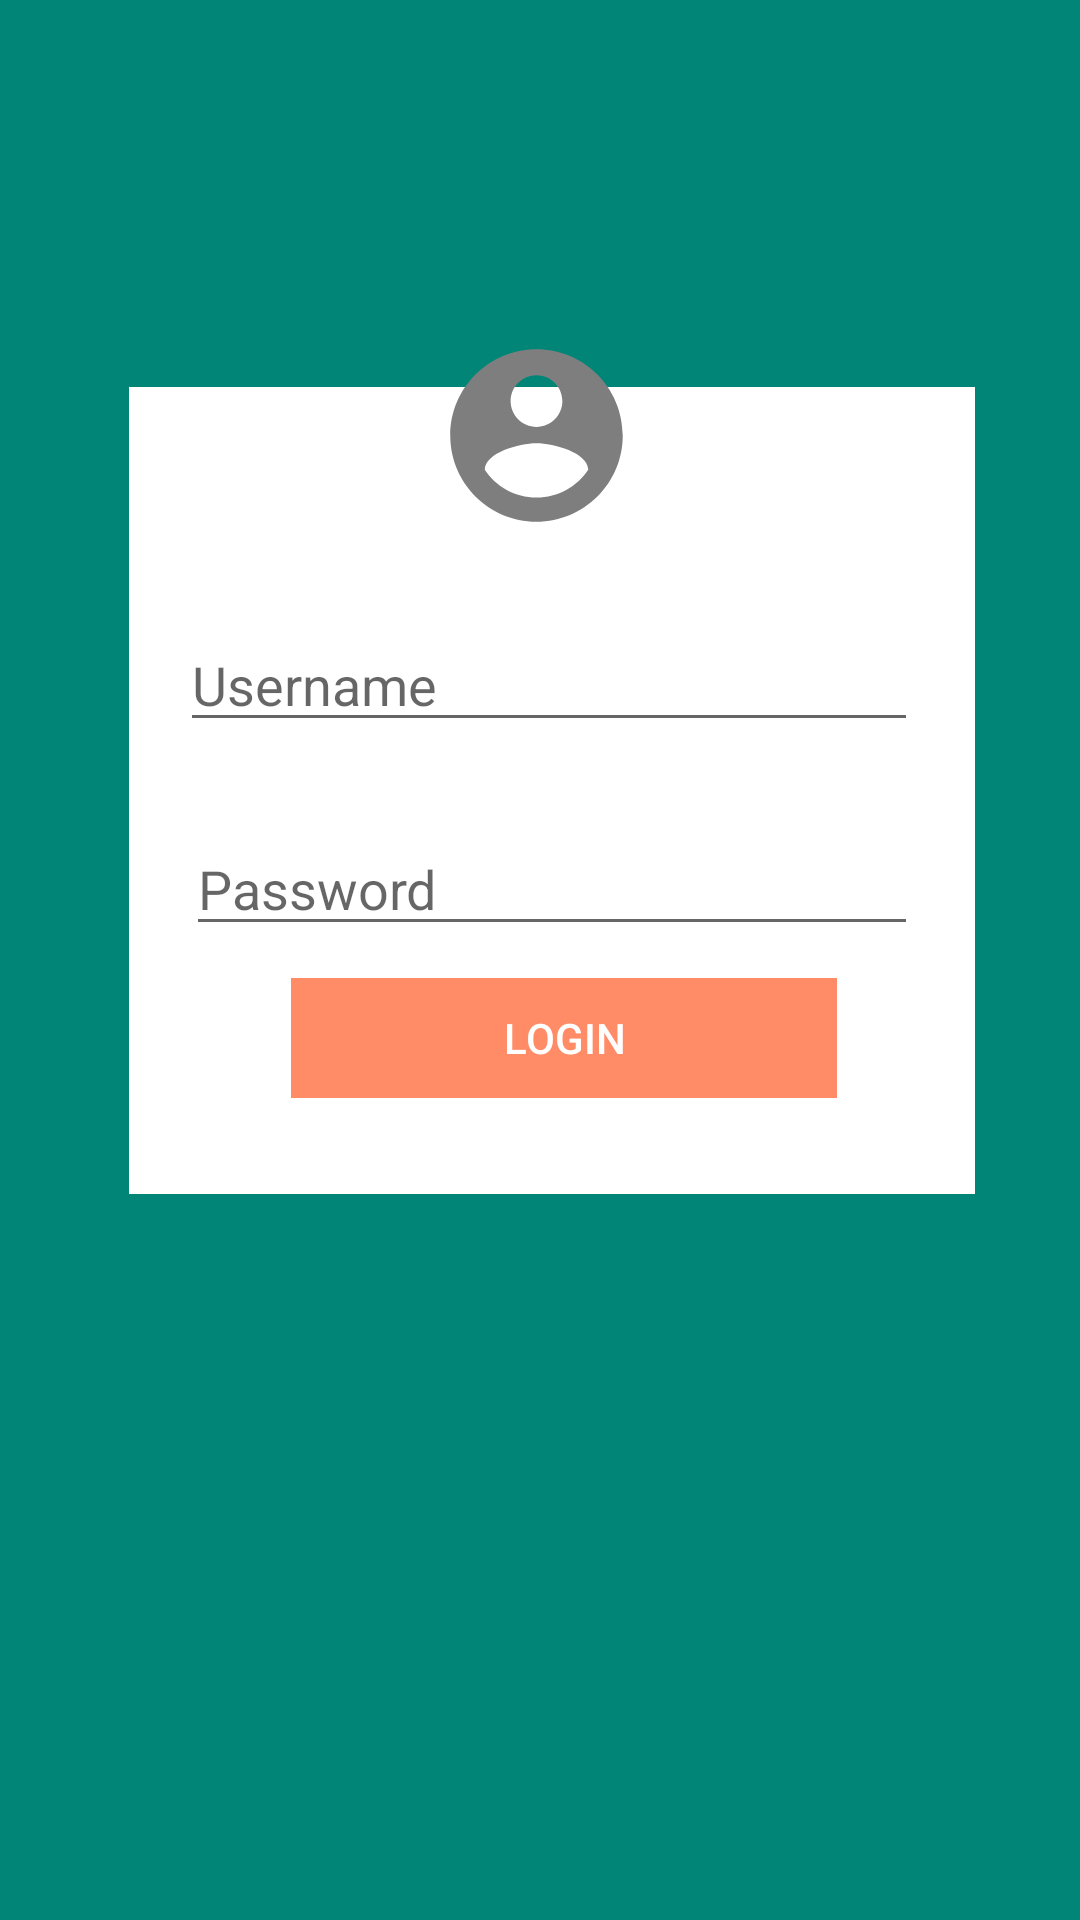

Named icons in this screenshot (1080x1920) and their centers, (x,y):
account circle: (536,435)
